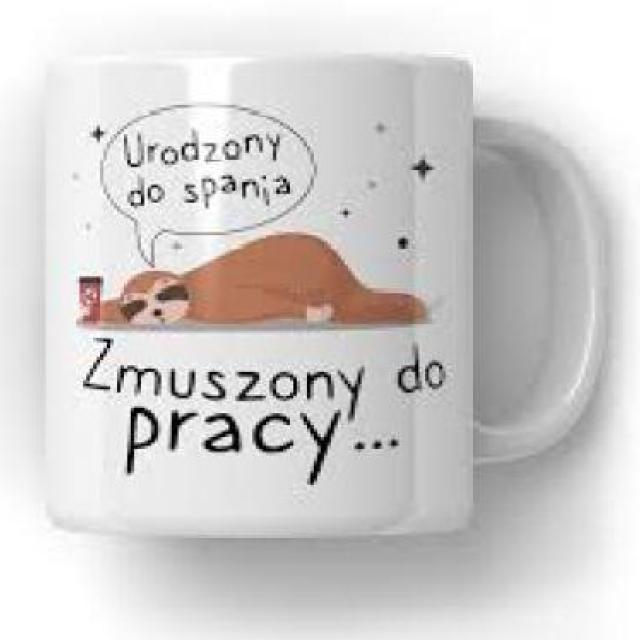cup: (37, 49, 616, 541)
